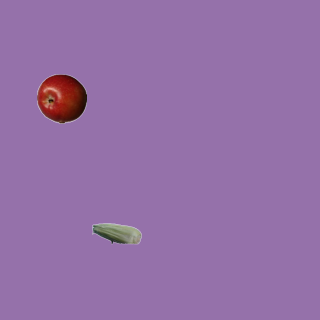Apple Braeburn: (36, 73, 86, 123)
Corn Husk: (91, 208, 141, 258)
